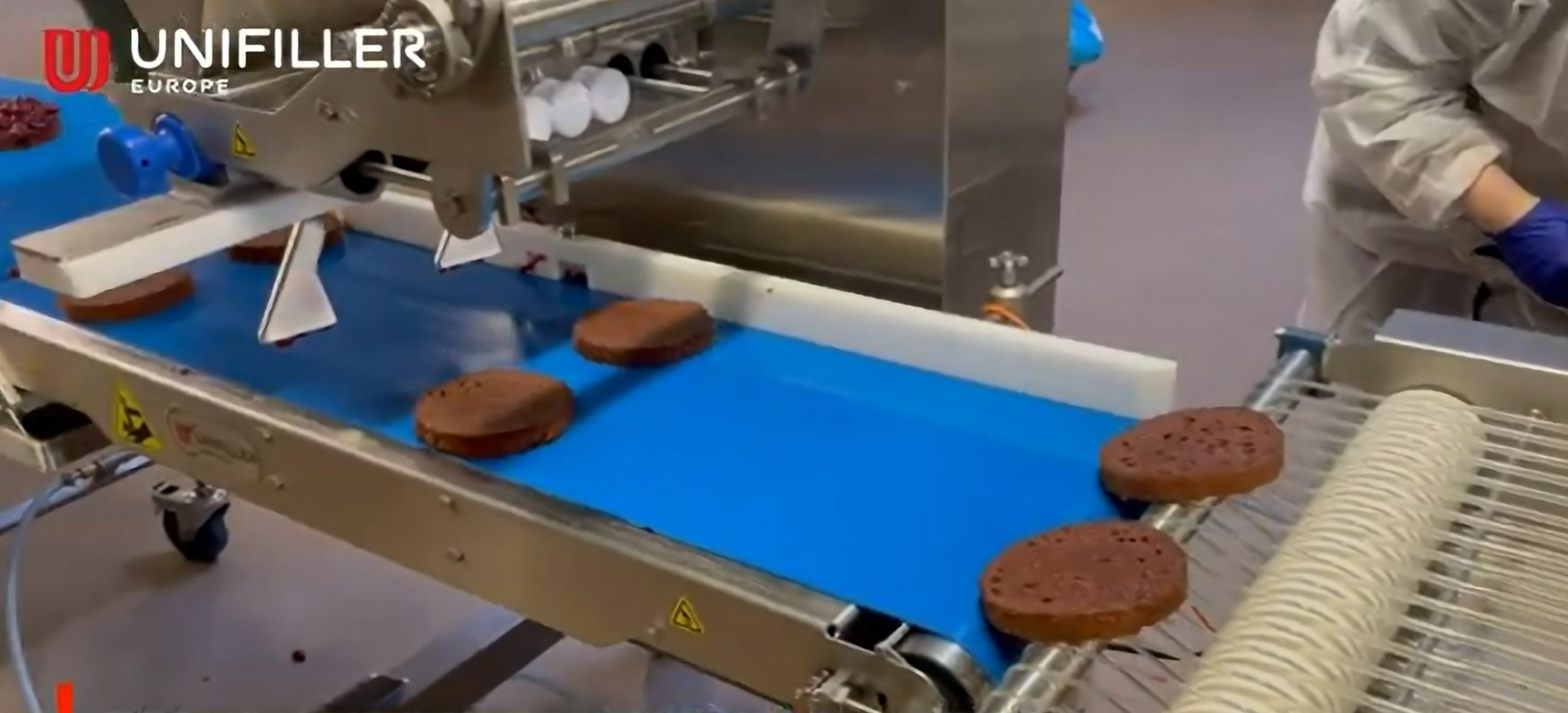Chocolate Cake: (983, 525, 1187, 637), (1099, 406, 1286, 501), (415, 372, 574, 457), (574, 297, 715, 363), (60, 267, 190, 318), (229, 213, 340, 263)
